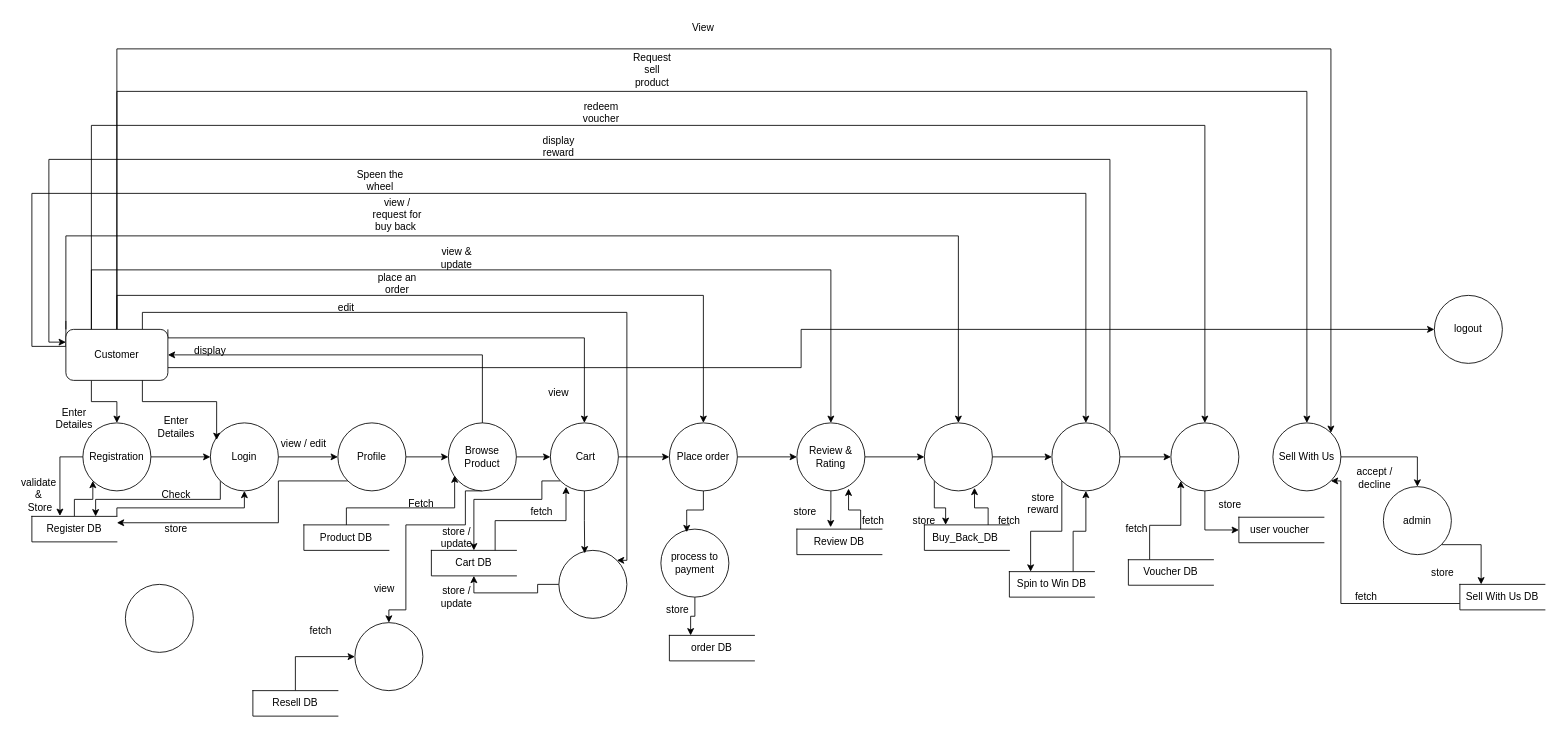
The diagram is 1560 pixels wide and 731 high, and some of its shapes have lost their labels. Each missing label, with the centre of its shape:
Apply Voucher: (159,618)
Buy Back: (958,456)
Edit Cart: (592,584)
Reselling Product: (388,656)
Spin To Win: (1085,456)
Voucher: (1204,456)
